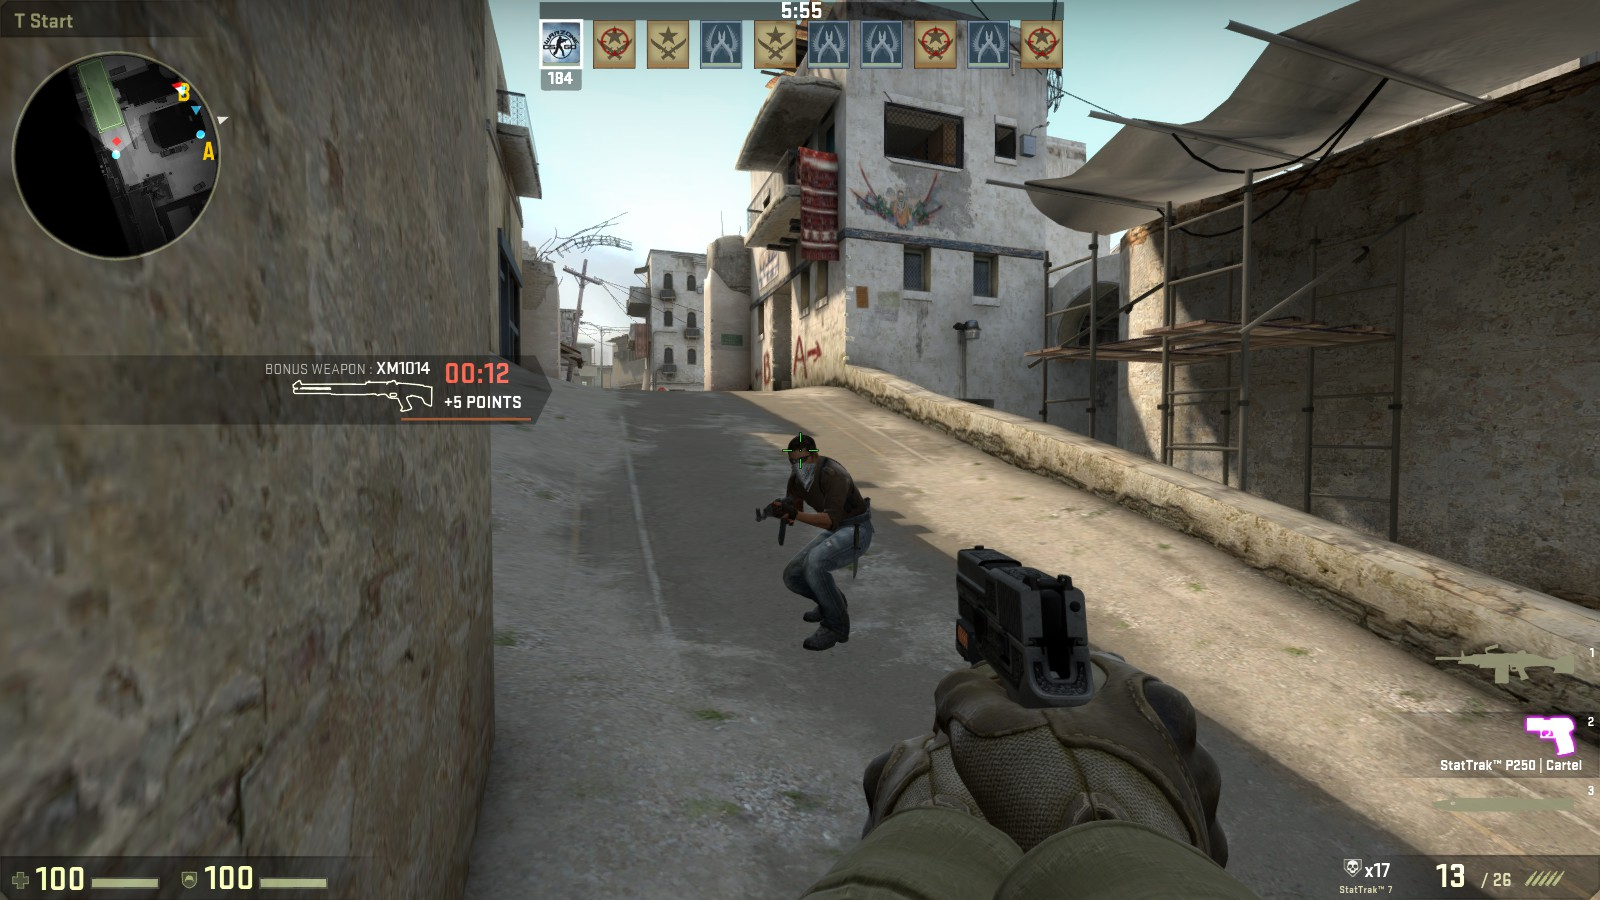t: (774, 430, 878, 653)
th: (787, 433, 819, 480)
